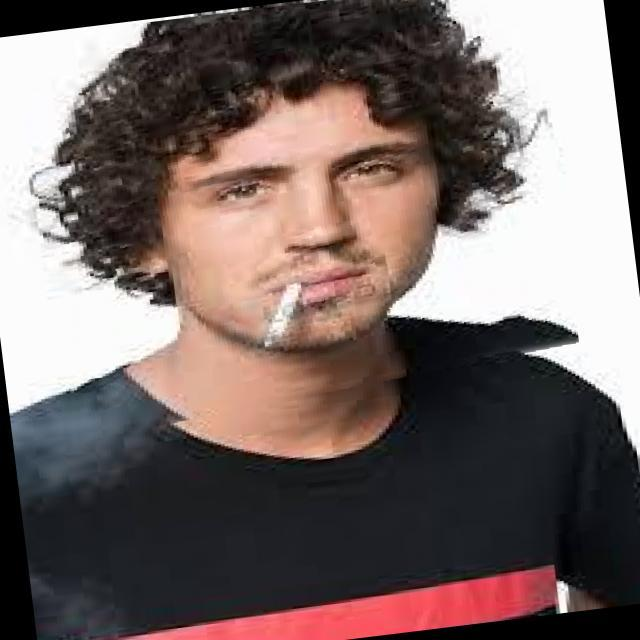cigarette: (228, 279, 322, 377)
